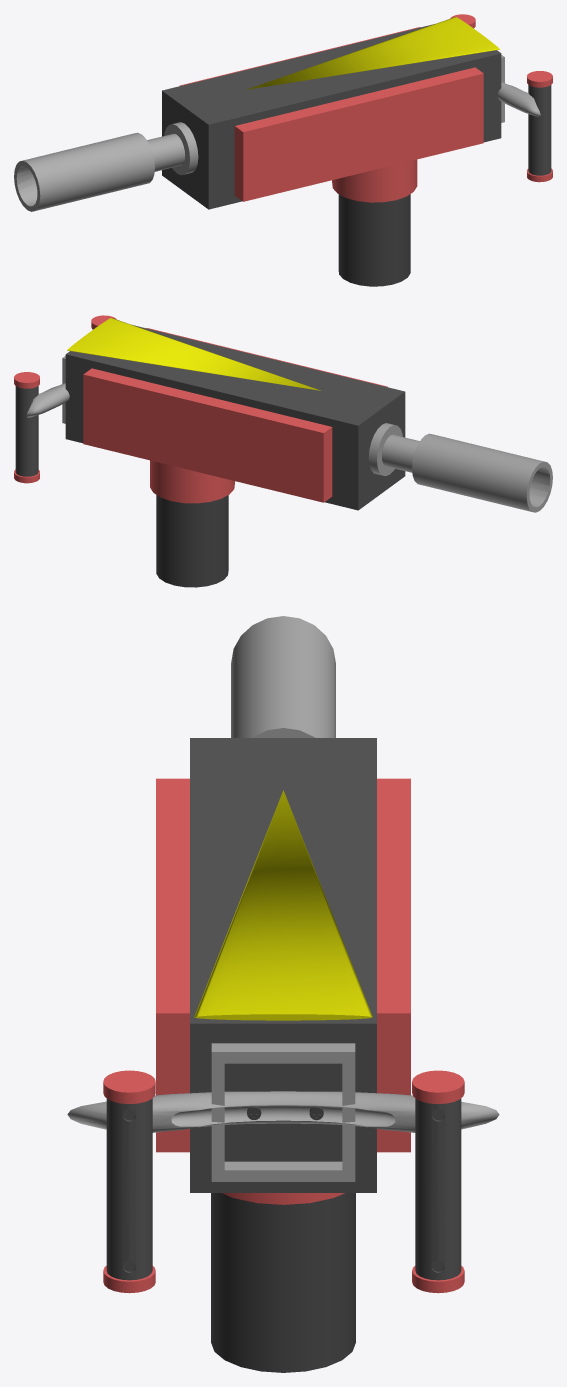
Rendered from Water Gun.fbx.
3 views of the same model, one above another, from view 1: azimuth 30°, elevation 25°; view 2: azimuth 150°, elevation 25°; view 3: azimuth 270°, elevation 25° (orthographic). The views are drawn at different scales.
Visible parts, largest first — view 1: pCylinder24; view 2: pCylinder24; view 3: pCylinder24.
Part boxes in pixels (left/top/right/bottom): pCylinder24: left=14, top=14, right=552, bottom=286; pCylinder24: left=14, top=315, right=552, bottom=587; pCylinder24: left=67, top=616, right=499, bottom=1372.
Bounding box in the file's own units: 12.54 × 5.29 × 4.83.
